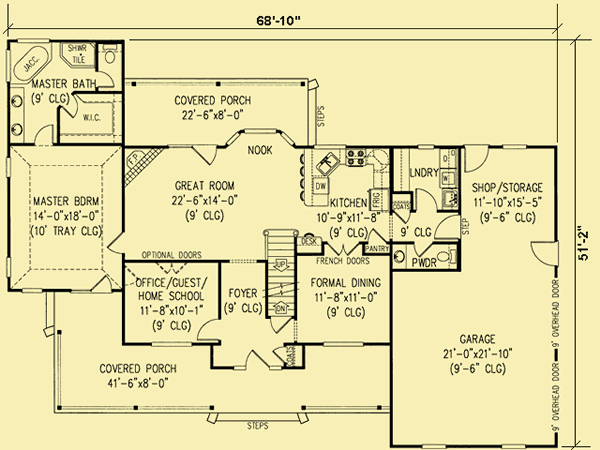door: (527, 237, 561, 268), (462, 142, 492, 175), (432, 213, 465, 241), (411, 187, 439, 214), (190, 142, 219, 168), (195, 317, 221, 344), (244, 346, 269, 372), (90, 69, 117, 92), (328, 239, 364, 256), (61, 94, 81, 122), (91, 273, 114, 297), (33, 122, 55, 147), (107, 230, 125, 257), (413, 238, 435, 257), (269, 317, 293, 334), (367, 226, 387, 245), (272, 344, 289, 364)
large sink: (99, 41, 120, 67), (436, 249, 459, 267)
small sink: (8, 83, 27, 142), (388, 244, 409, 269)
stairs: (264, 225, 299, 321)
tub: (13, 44, 51, 81)
twin sink: (316, 152, 343, 179)
windows: (319, 337, 367, 351), (148, 337, 194, 350), (242, 127, 279, 138), (415, 440, 455, 450), (499, 139, 528, 152), (3, 50, 14, 83), (19, 286, 47, 298), (496, 442, 529, 448), (5, 255, 13, 279), (5, 153, 12, 179)
